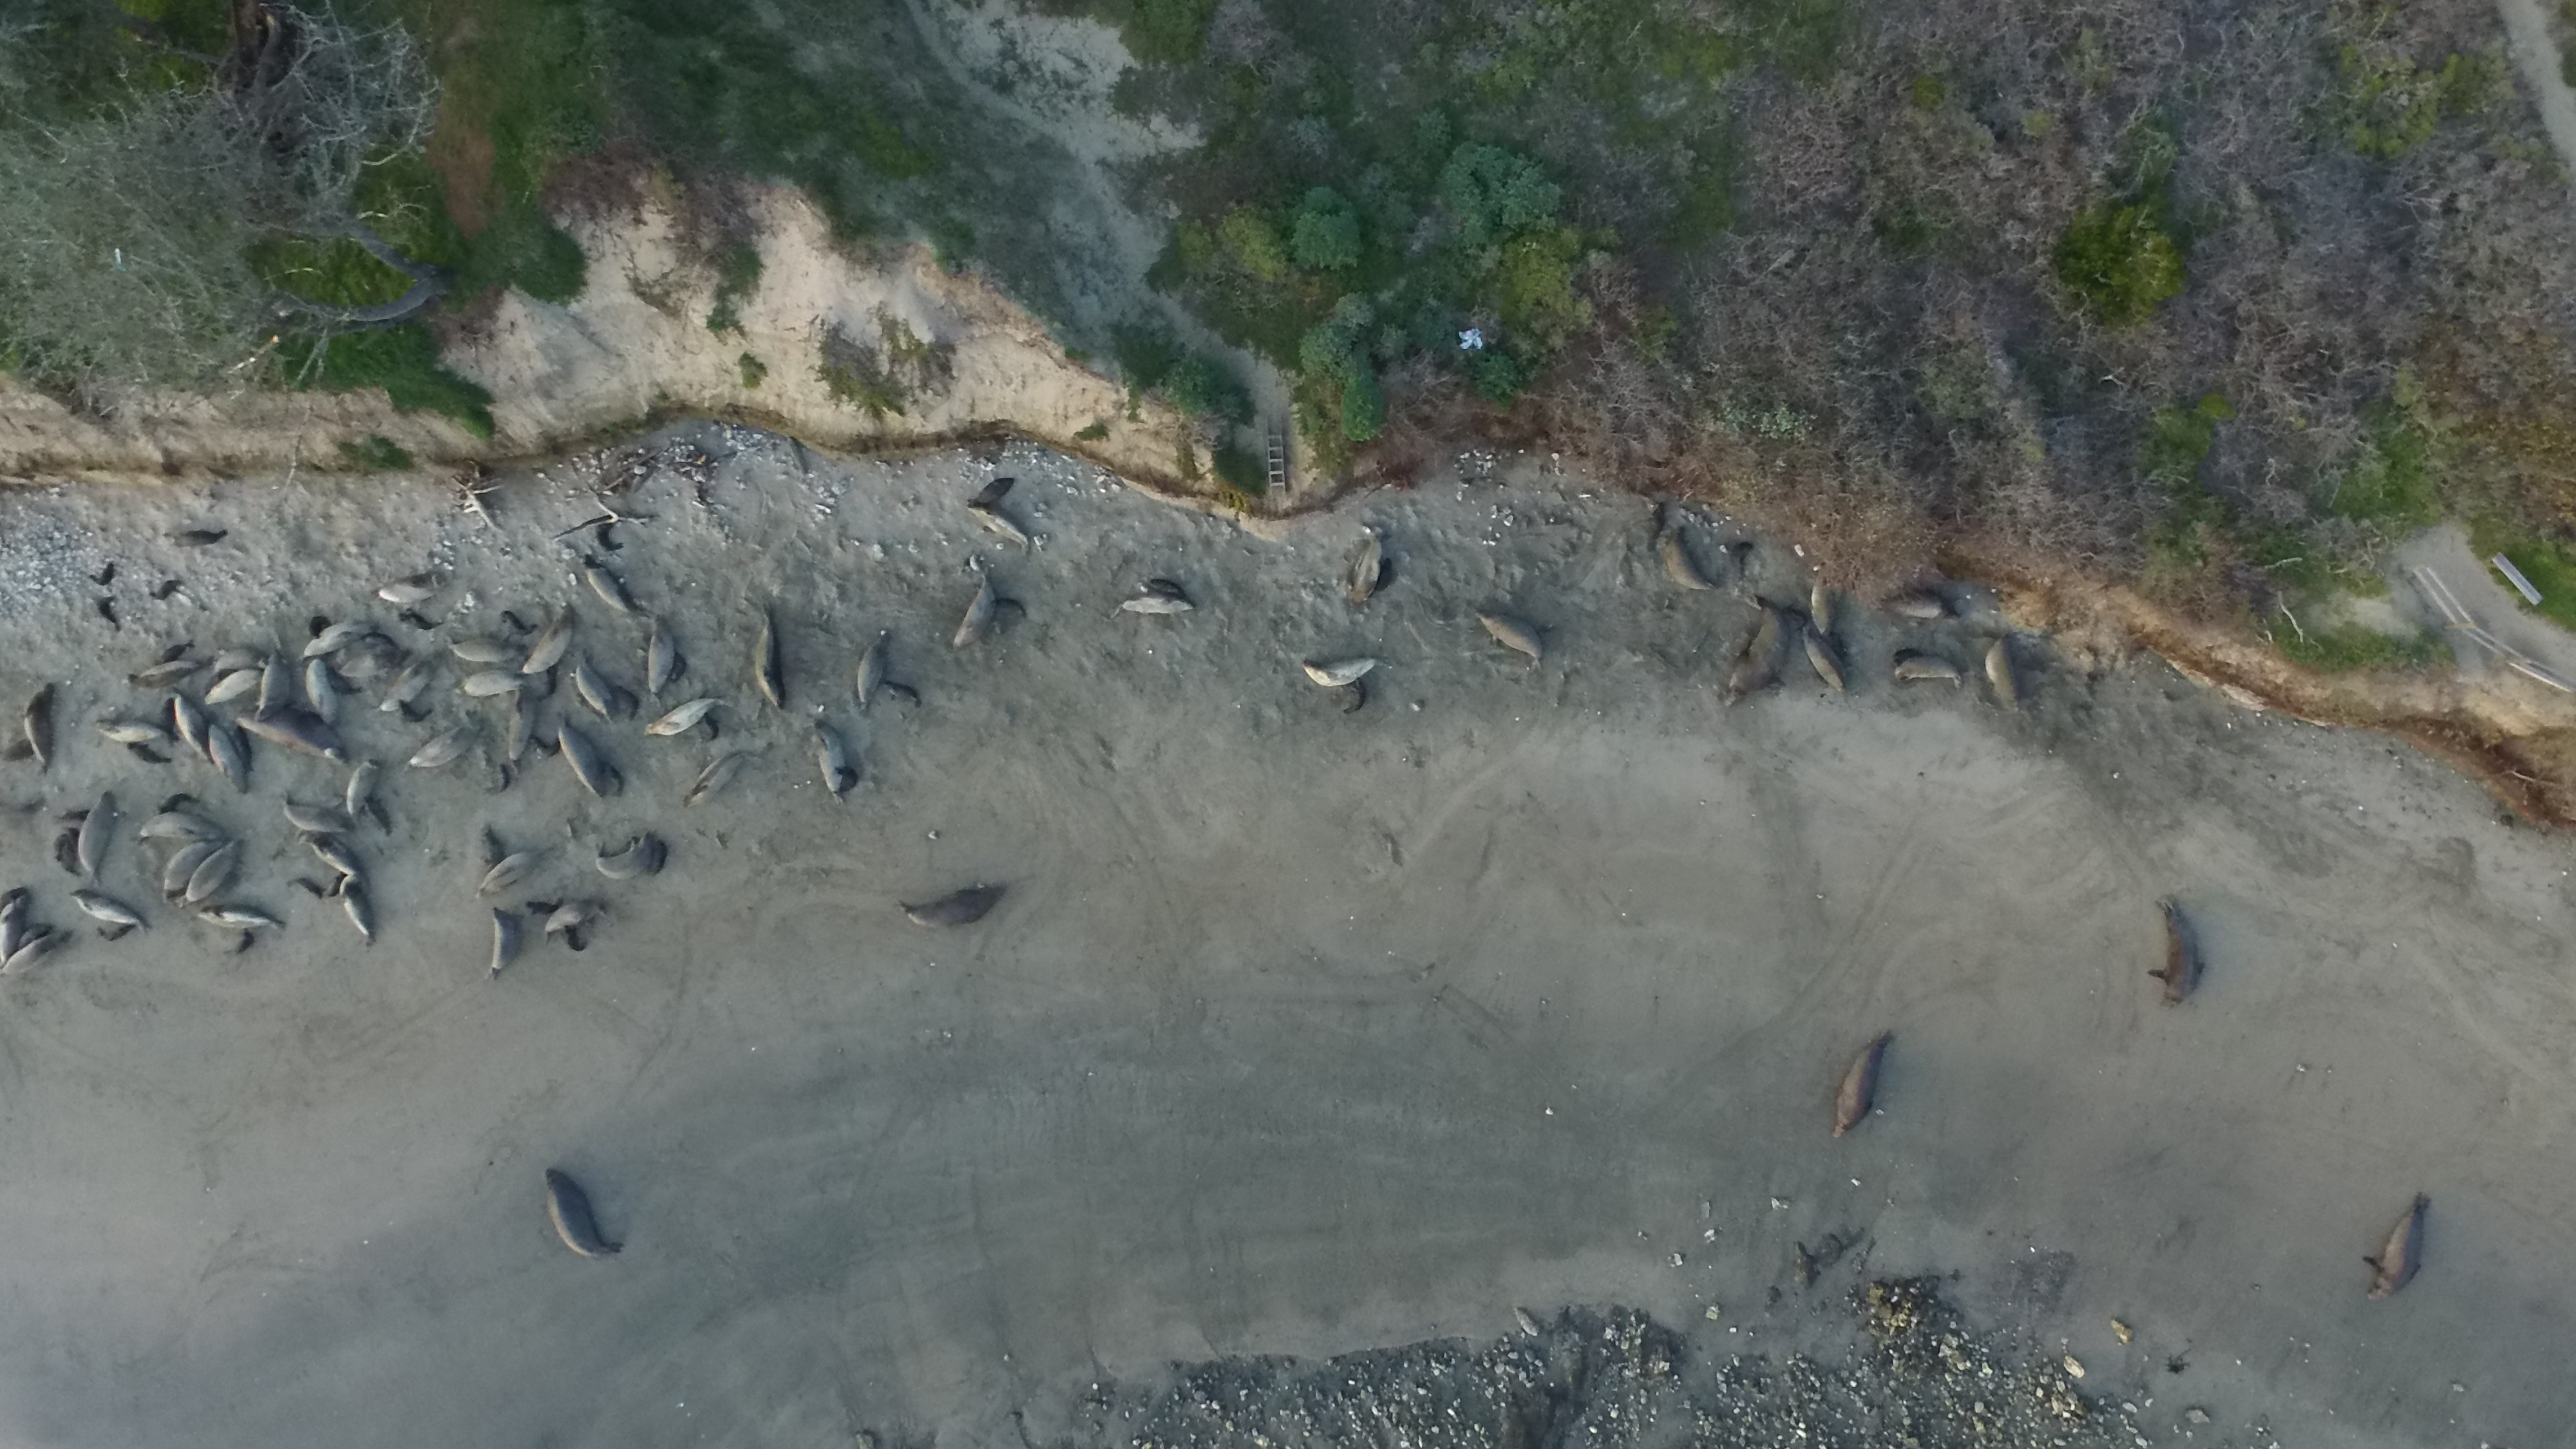adult male: (2360, 1191, 2436, 1304), (1725, 589, 1792, 708), (541, 1169, 625, 1258), (2148, 893, 2208, 1010), (1831, 1030, 1895, 1139), (234, 708, 345, 764), (895, 888, 1007, 929), (754, 603, 786, 709)
male juvenile / female juvenile / adult female: (161, 839, 234, 906), (177, 839, 242, 911), (1476, 609, 1546, 669), (295, 832, 372, 885), (805, 713, 847, 807), (584, 554, 646, 617), (681, 748, 747, 809), (557, 717, 605, 798), (952, 570, 1000, 651), (1798, 623, 1852, 694), (966, 499, 1030, 557), (172, 683, 216, 766), (476, 849, 547, 901), (78, 791, 115, 888), (524, 602, 573, 674), (69, 890, 152, 932), (644, 697, 732, 736), (1663, 527, 1718, 589), (1345, 525, 1385, 609), (136, 812, 232, 847), (856, 632, 893, 720), (0, 931, 73, 975), (403, 727, 481, 768), (207, 720, 249, 793), (575, 648, 616, 722), (251, 649, 292, 722), (283, 793, 354, 833), (304, 656, 343, 729), (23, 681, 53, 775), (301, 621, 380, 656), (1983, 632, 2024, 701), (379, 660, 435, 709), (596, 832, 653, 881), (508, 685, 538, 777), (126, 658, 214, 688), (1302, 658, 1396, 686), (349, 759, 382, 835), (341, 874, 377, 945), (545, 902, 607, 941), (1874, 593, 1959, 621), (196, 904, 287, 931), (488, 908, 522, 978), (1895, 656, 1966, 690), (456, 671, 534, 699), (205, 671, 265, 706), (377, 573, 448, 603), (648, 616, 674, 695), (0, 895, 28, 966), (336, 649, 410, 676), (1812, 564, 1838, 639), (96, 720, 179, 743), (1111, 594, 1198, 616), (448, 639, 525, 660), (212, 648, 272, 672)
pup: (481, 826, 511, 878), (966, 478, 1016, 508), (1141, 577, 1192, 603), (11, 925, 55, 954), (878, 679, 922, 706), (157, 793, 198, 821), (363, 794, 391, 835), (152, 642, 196, 667), (232, 725, 255, 771), (1645, 502, 1667, 552), (1729, 543, 1753, 586), (324, 667, 361, 694), (127, 743, 173, 764), (0, 736, 35, 763), (596, 518, 623, 554), (538, 660, 561, 701), (172, 531, 230, 547), (501, 610, 538, 635), (614, 685, 639, 722), (225, 927, 255, 957), (359, 630, 402, 651), (1780, 603, 1808, 635), (398, 699, 433, 724), (602, 759, 625, 796), (1371, 556, 1392, 594), (163, 697, 180, 743), (527, 734, 563, 757), (287, 879, 327, 899), (648, 840, 669, 878), (1343, 676, 1364, 713), (96, 925, 140, 943), (97, 596, 120, 630), (835, 761, 858, 794), (60, 840, 81, 876), (402, 614, 444, 632), (991, 596, 1026, 617), (0, 888, 25, 918), (1826, 630, 1847, 663), (308, 614, 334, 640), (324, 870, 347, 901), (563, 924, 586, 954), (527, 899, 564, 916), (150, 580, 182, 600), (701, 711, 720, 743), (62, 828, 83, 856), (90, 563, 115, 586), (671, 649, 686, 683), (58, 809, 90, 824), (55, 832, 69, 865), (1895, 649, 1923, 665), (499, 763, 511, 794)
